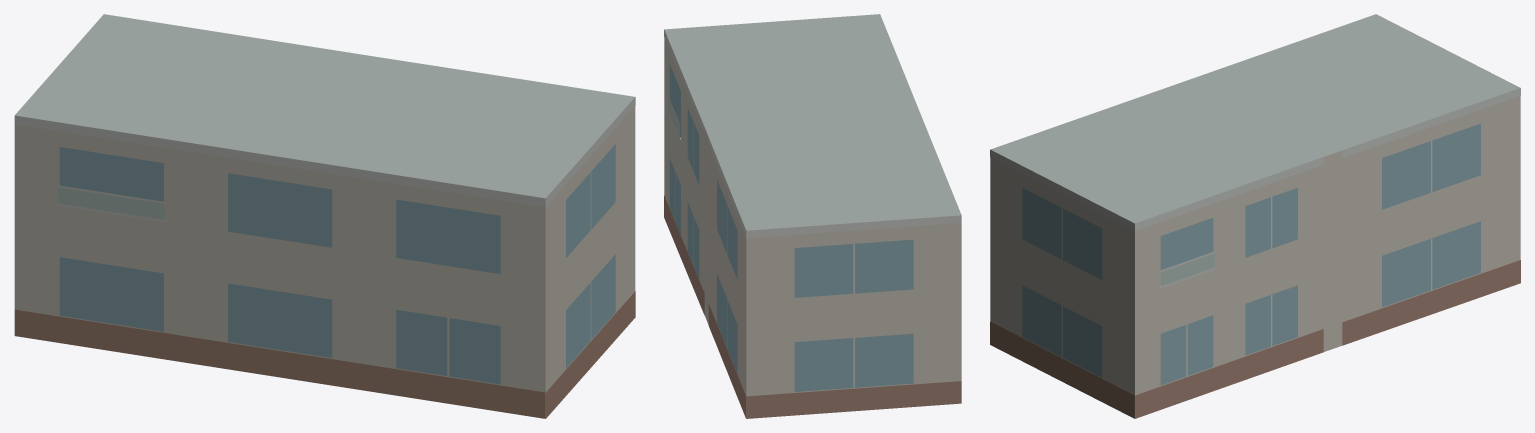
The model's file is survey-upis-32955898.glb.
3 renders of one model, left to right at view 1: azimuth 30°, elevation 25°; view 2: azimuth 150°, elevation 25°; view 3: azimuth 270°, elevation 25°, orthographic. The views are drawn at different scales.
Parts seen in each view (by area): view 1: survey-upis-32955898.tmp; view 2: survey-upis-32955898.tmp; view 3: survey-upis-32955898.tmp.
Part boxes in pixels (x1=…): survey-upis-32955898.tmp: x1=14, y1=14, x2=635, y2=418; survey-upis-32955898.tmp: x1=664, y1=14, x2=961, y2=418; survey-upis-32955898.tmp: x1=990, y1=14, x2=1520, y2=418.
Bounding box in the file's own units: 14.04 × 6.1 × 15.02.
